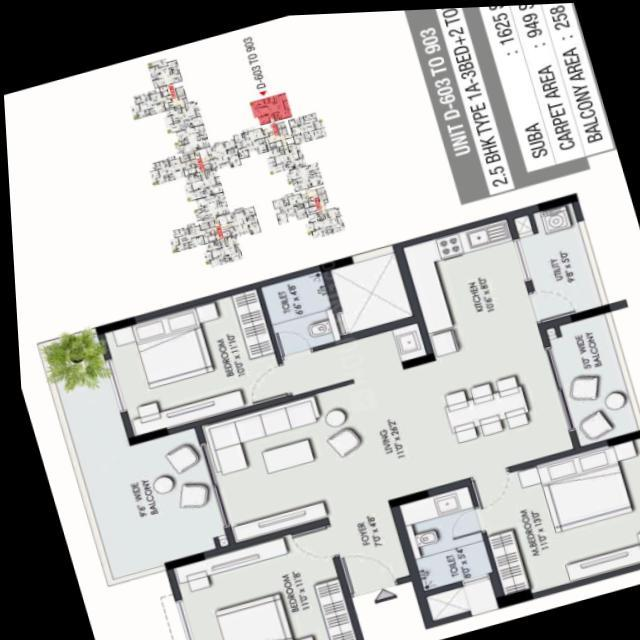Balcony-Sitout: (41, 329, 221, 572), (544, 313, 633, 445)
Bedroom: (101, 285, 282, 431), (167, 522, 349, 640)
Bedroom with Toilet: (390, 435, 640, 600)
Dining: (428, 367, 536, 447)
Enterance-Foyer: (325, 504, 410, 608)
Kitchen: (401, 217, 536, 357)
Living: (198, 368, 425, 537)
Toilet: (393, 484, 485, 587), (259, 268, 336, 351)
Utility: (512, 201, 597, 319)
